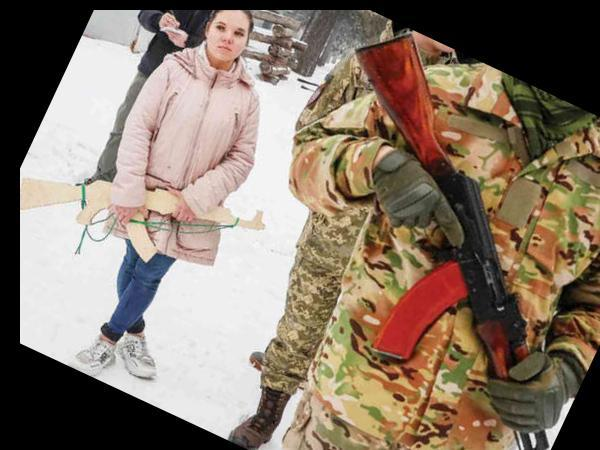larga: (353, 33, 549, 450), (19, 173, 266, 263)
